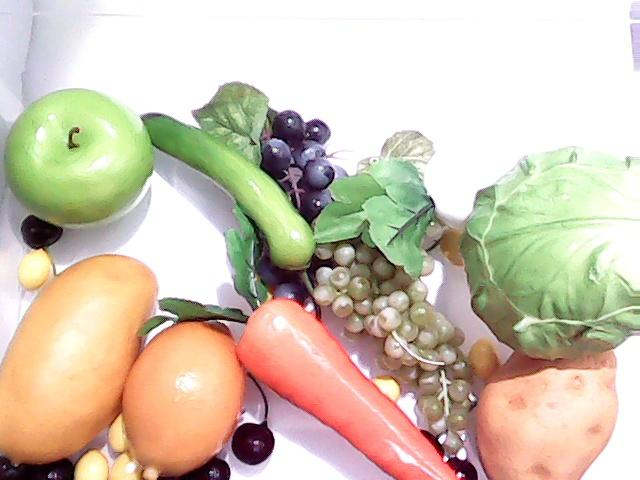apple: (0, 80, 156, 232)
cabbage: (471, 140, 639, 364)
carrot: (134, 207, 468, 480)
grape: (322, 246, 462, 374), (248, 107, 336, 297), (409, 356, 471, 440)
lemon: (116, 313, 248, 475)
mango: (2, 251, 162, 473)
pepper: (136, 107, 324, 266)
potato: (474, 336, 618, 480)
radish: (314, 106, 638, 278)
